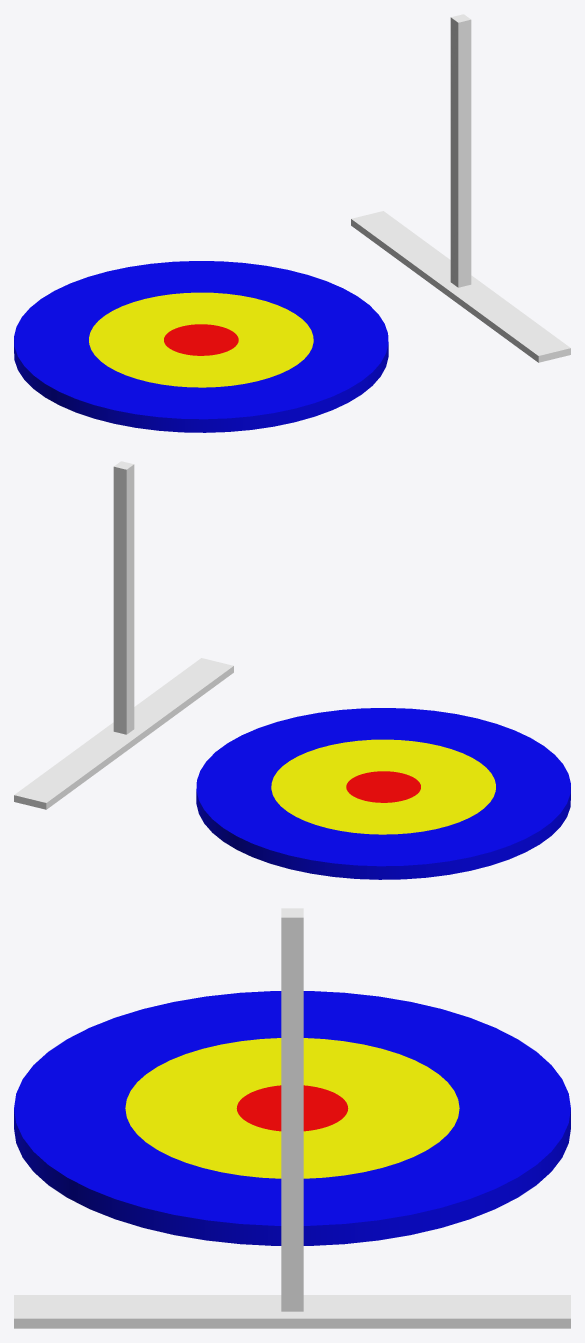
Rendered from targetboard.DAE.
3 views of the same model, one above another, from view 1: azimuth 30°, elevation 25°; view 2: azimuth 150°, elevation 25°; view 3: azimuth 270°, elevation 25° (orthographic). The views are drawn at different scales.
Parts seen in each view (by area): view 1: Tube001, Tube003, Box001, Box002, Tube002; view 2: Tube001, Tube003, Box001, Box002, Tube002; view 3: Tube001, Tube003, Box001, Box002, Tube002.
Boxes of the visible parts, left/top/right/bottom form: Tube001: left=14, top=261, right=388, bottom=432; Tube003: left=89, top=292, right=313, bottom=387; Box001: left=351, top=211, right=570, bottom=362; Box002: left=450, top=14, right=471, bottom=287; Tube002: left=164, top=324, right=238, bottom=355; Tube001: left=196, top=708, right=570, bottom=879; Tube003: left=271, top=739, right=495, bottom=834; Box001: left=14, top=658, right=233, bottom=809; Box002: left=113, top=461, right=134, bottom=734; Tube002: left=346, top=771, right=420, bottom=802; Tube001: left=14, top=991, right=570, bottom=1245; Tube003: left=125, top=1038, right=459, bottom=1178; Box001: left=14, top=1295, right=570, bottom=1328; Box002: left=281, top=908, right=303, bottom=1311; Tube002: left=236, top=1085, right=348, bottom=1131.
Size of the model in its own units: 67.45 by 50 by 40.
